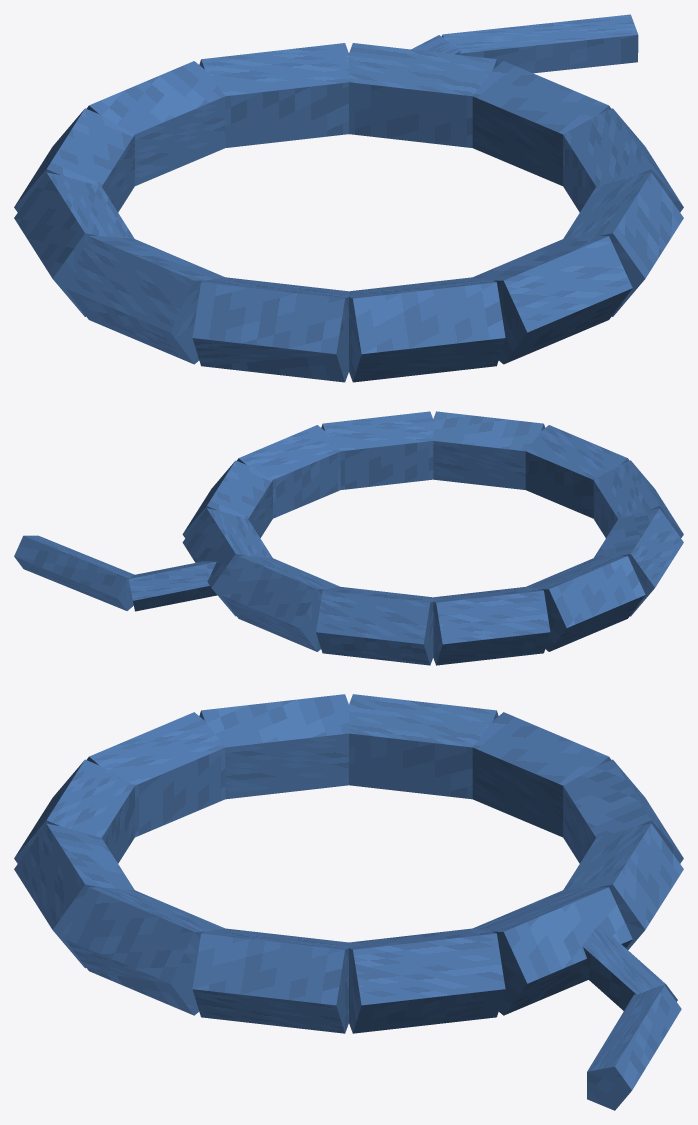
The model's file is judo_belt_blue.glb.
3 views of the same model, one above another, from view 1: azimuth 30°, elevation 25°; view 2: azimuth 150°, elevation 25°; view 3: azimuth 270°, elevation 25° (orthographic). The views are drawn at different scales.
Visible parts, largest first — view 1: block_rolled cloth sash3, block_rolled cloth sash4, block_rolled cloth sash9, block_rolled cloth sash10, block_rolled cloth sash2, block_rolled cloth sash5, block_rolled cloth sash8, block_rolled cloth sash11, block_free end 1, block_rolled cloth sash1, block_rolled cloth sash6, block_rolled cloth sash0 (+1 smaller); view 2: block_rolled cloth sash8, block_rolled cloth sash7, block_rolled cloth sash1, block_rolled cloth sash2, block_rolled cloth sash9, block_rolled cloth sash6, block_rolled cloth sash3, block_rolled cloth sash0, block_free end 1, block_rolled cloth sash5, block_rolled cloth sash10, block_rolled cloth sash4 (+2 smaller); view 3: block_rolled cloth sash0, block_rolled cloth sash11, block_rolled cloth sash5, block_rolled cloth sash6, block_rolled cloth sash1, block_rolled cloth sash10, block_rolled cloth sash4, block_rolled cloth sash7, block_rolled cloth sash2, block_rolled cloth sash9, block_free end 1, block_rolled cloth sash3 (+2 smaller).
Part boxes in pixels (x1,y1,x2,y2): block_rolled cloth sash3: (349,277,505,382); block_rolled cloth sash4: (192,277,348,382); block_rolled cloth sash9: (199,43,348,147); block_rolled cloth sash10: (349,43,498,147); block_rolled cloth sash2: (473,236,632,364); block_rolled cloth sash5: (65,236,224,364); block_rolled cloth sash8: (86,61,225,185); block_rolled cloth sash11: (472,61,611,185); block_free end 1: (442,14,638,73); block_rolled cloth sash1: (563,172,683,316); block_rolled cloth sash6: (14,172,134,316); block_rolled cloth sash0: (563,108,683,212); block_rolled cloth sash8: (316,587,433,665); block_rolled cloth sash7: (433,587,550,665); block_rolled cloth sash1: (321,411,433,489); block_rolled cloth sash2: (433,411,544,489); block_rolled cloth sash9: (221,556,340,651); block_rolled cloth sash6: (526,556,645,651); block_rolled cloth sash3: (525,425,629,518); block_rolled cloth sash0: (237,425,340,518); block_free end 1: (14,535,134,610); block_rolled cloth sash5: (594,508,683,616); block_rolled cloth sash10: (182,508,272,616); block_rolled cloth sash4: (593,460,683,537); block_rolled cloth sash0: (192,928,348,1033); block_rolled cloth sash11: (349,928,505,1033); block_rolled cloth sash5: (199,694,348,799); block_rolled cloth sash6: (349,694,498,799); block_rolled cloth sash1: (65,887,224,1015); block_rolled cloth sash10: (473,887,632,1015); block_rolled cloth sash4: (86,712,225,837); block_rolled cloth sash7: (472,712,611,837); block_rolled cloth sash2: (14,823,134,968); block_rolled cloth sash9: (563,823,683,949); block_free end 1: (587,985,681,1110); block_rolled cloth sash3: (14,759,134,863).
Bounding box in the file's own units: 0.1512 × 0.0177 × 0.1238.
1 material, 1 textured.
